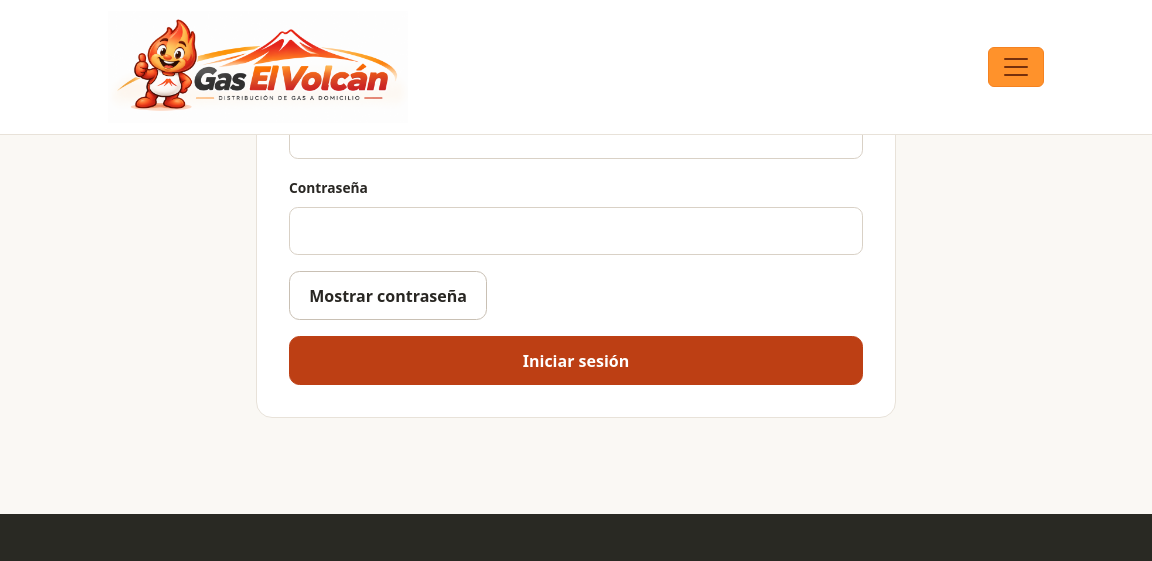
muestra errores de validación al enviar formulario vacío
The width and height of the screenshot is (1152, 561).
(page scrolled)
Click the button "Iniciar sesión": click(576, 361) top-left (289, 336), bottom-right (863, 385)
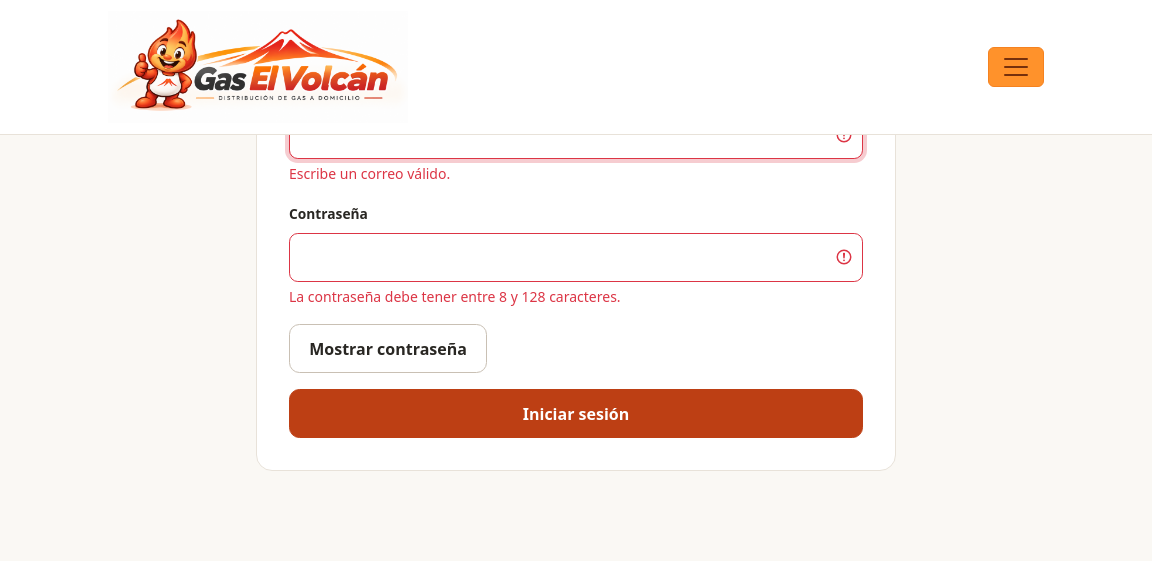
Now the text "Escribe un correo válido." is shown, box top-left (289, 164), bottom-right (450, 183)
